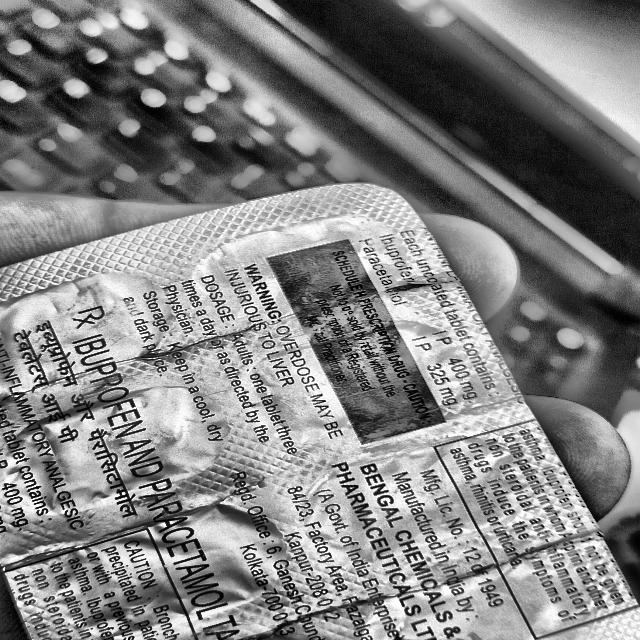IBUPROFEN AND PARACETAMOL TABLETS: (57, 318, 270, 640)
